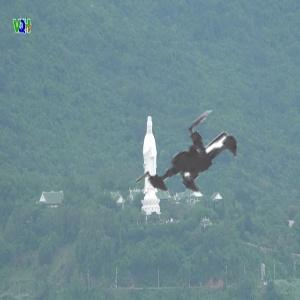drone: (106, 73, 295, 262)
